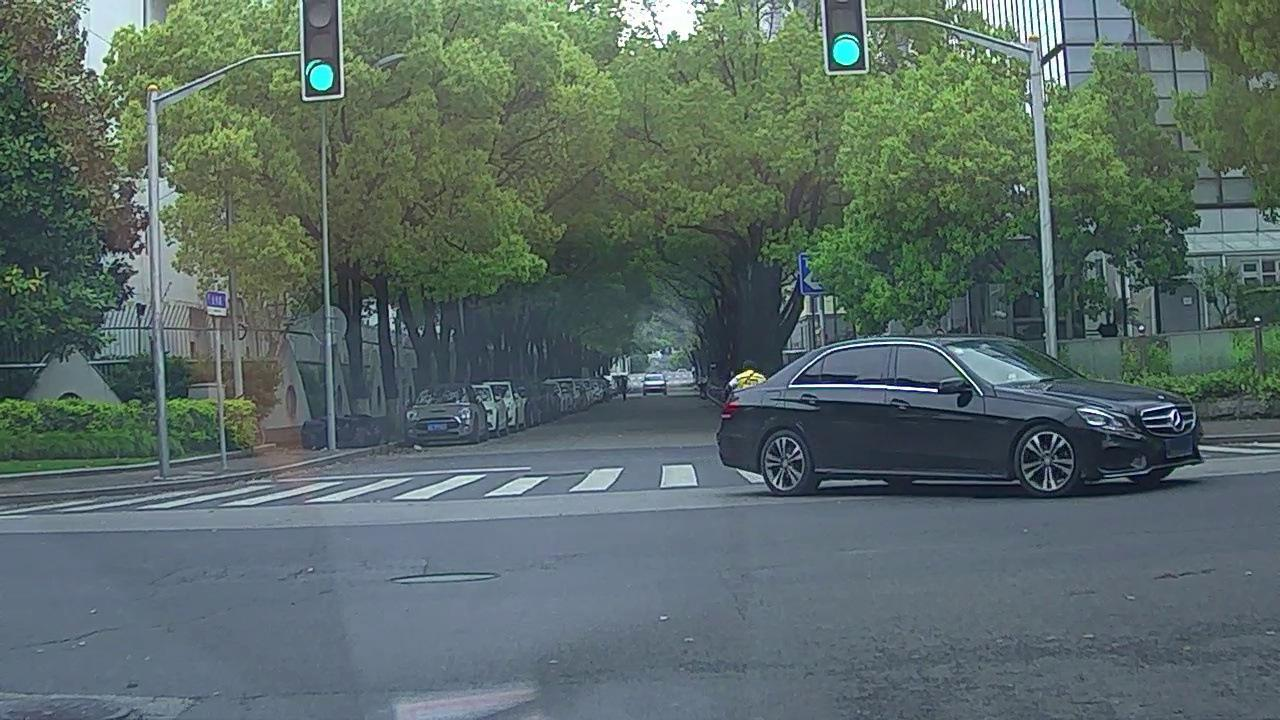traffic_light: (297, 1, 344, 93), (824, 1, 867, 74)
